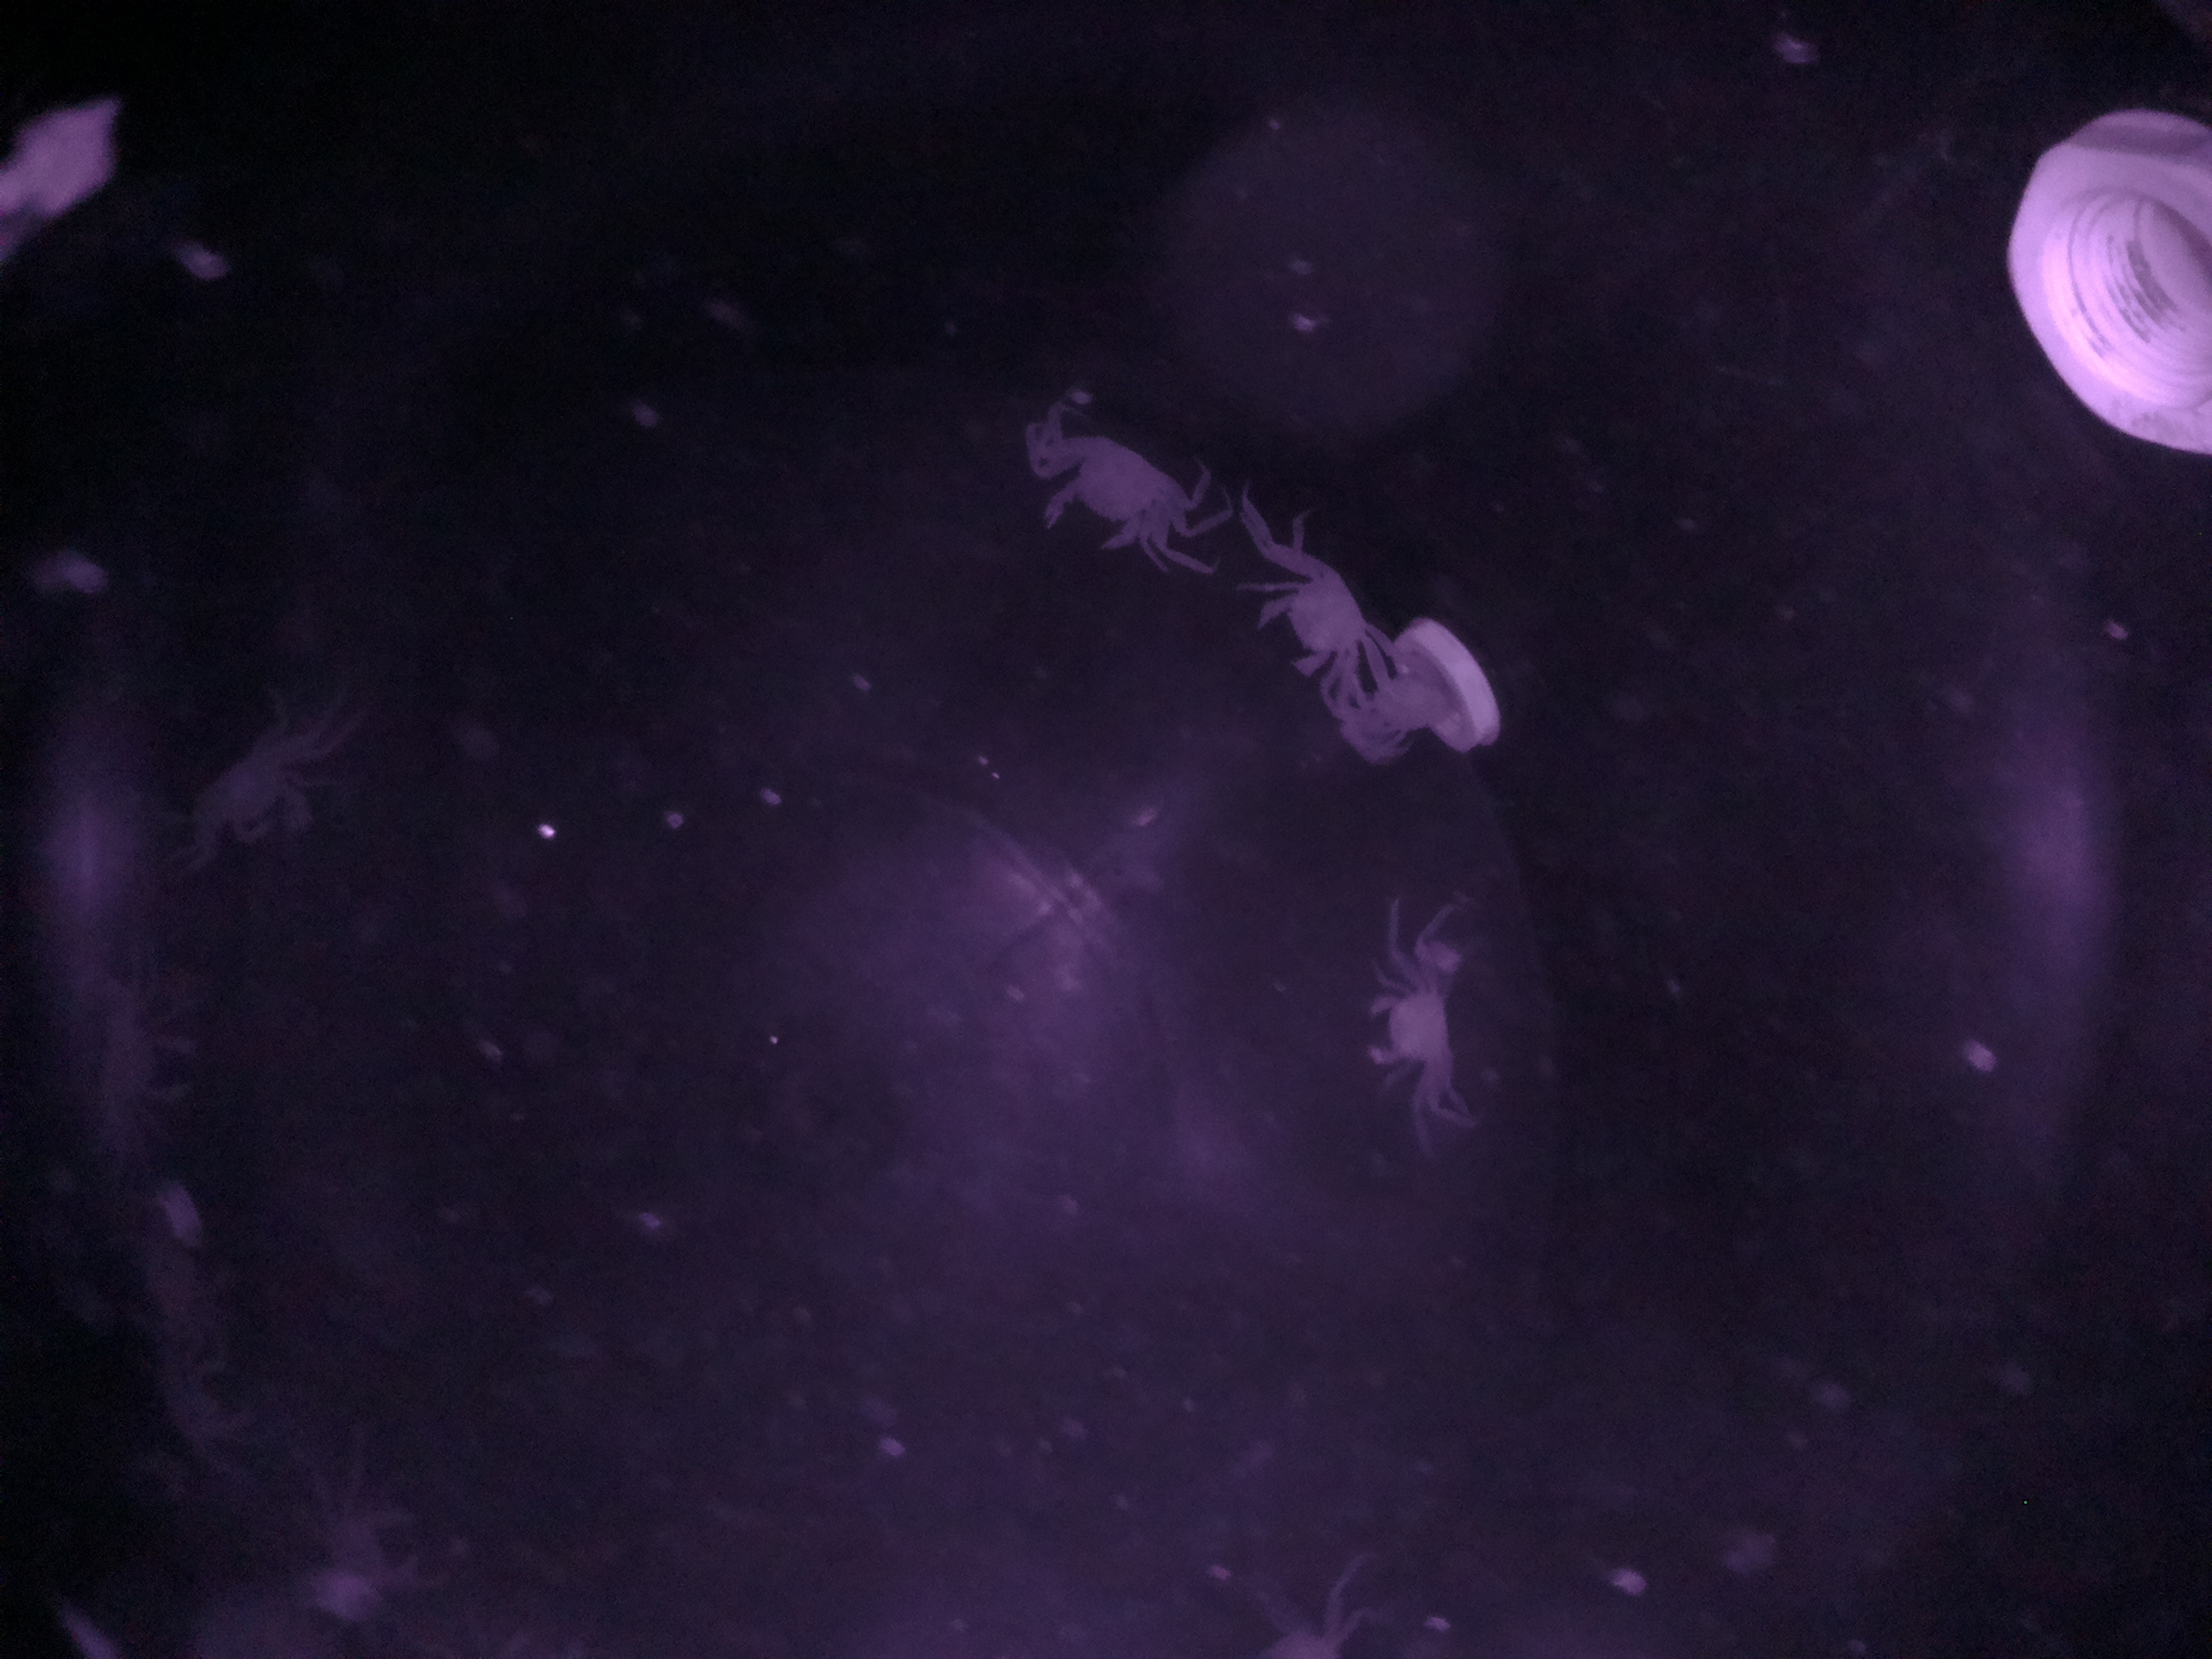Crab: (1010, 385, 1224, 587), (1240, 505, 1397, 709), (1343, 927, 1487, 1115)
